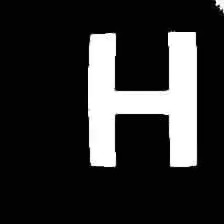LTR_H: (77, 16, 210, 175)
